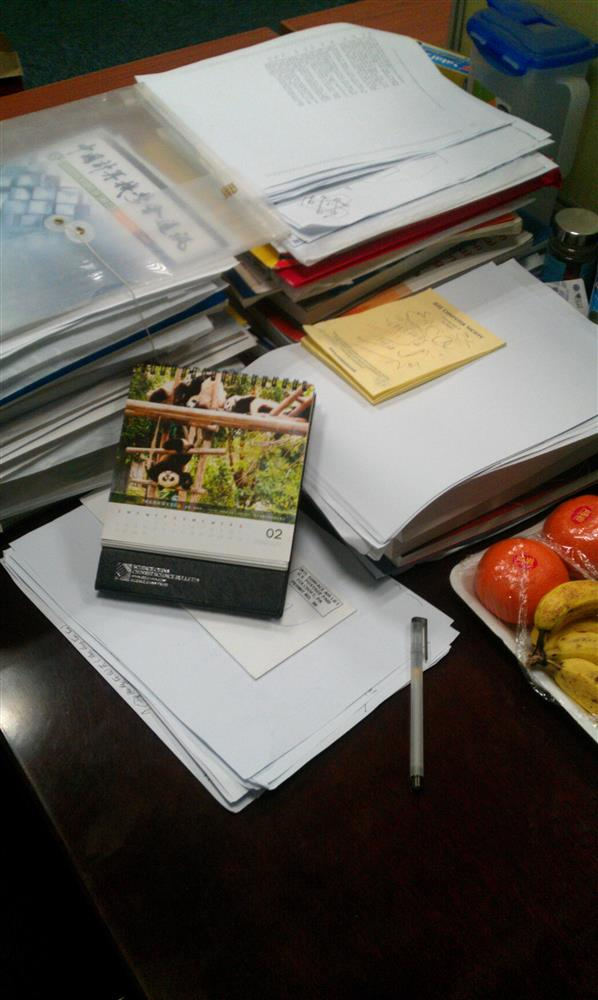panda_calendar: (85, 363, 316, 626)
